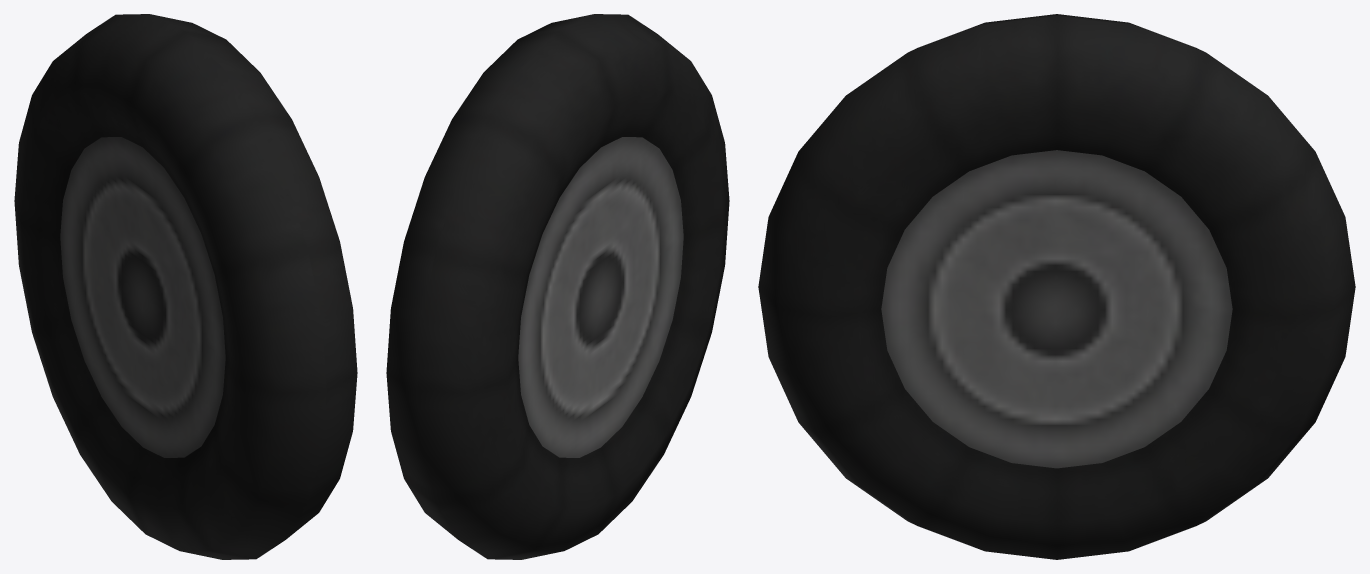
Rendered from blue_steel_landing_gear_srf_1_wheel.obj.
3 renders of one model, left to right at view 1: azimuth 30°, elevation 25°; view 2: azimuth 150°, elevation 25°; view 3: azimuth 270°, elevation 25°, orthographic. The views are drawn at different scales.
Parts seen in each view (by area): view 1: mesh1; view 2: mesh1; view 3: mesh1.
Boxes of the visible parts, bbox=[...] form: mesh1: bbox=[14, 14, 357, 559]; mesh1: bbox=[386, 14, 729, 559]; mesh1: bbox=[758, 14, 1355, 559].
Bounding box in the file's own units: 0.1 × 0.425 × 0.425.
Materials: 1 (1 with a texture image).
